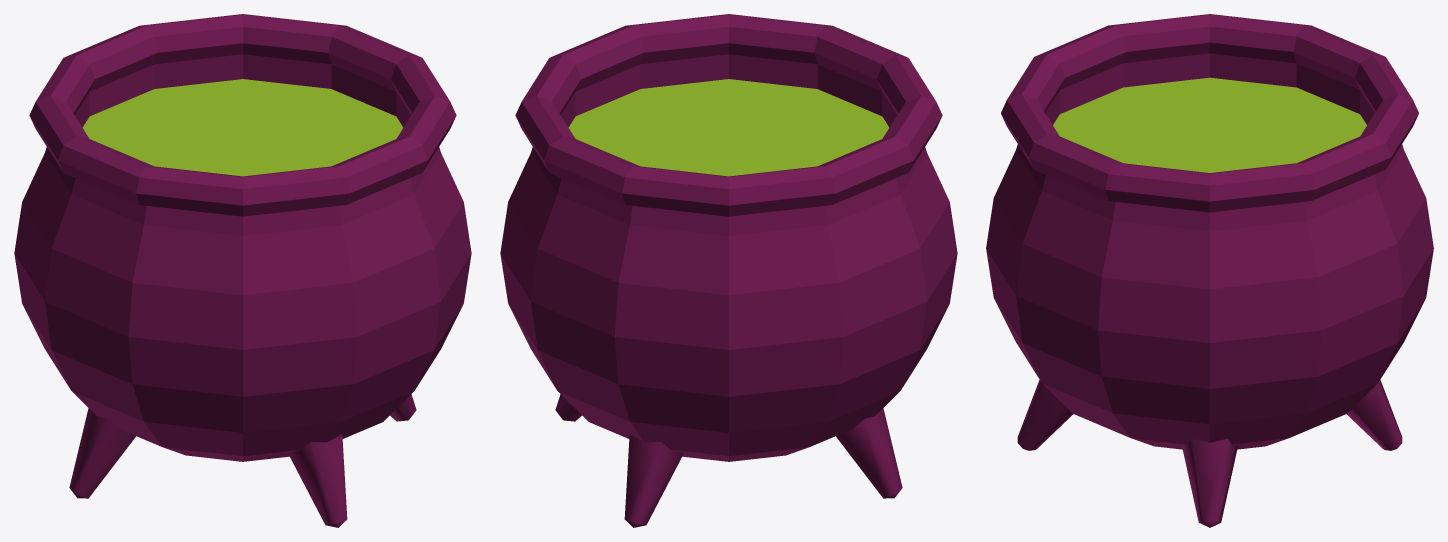
The model's file is Caudron.fbx.
3 views of the same model, side by side, from view 1: azimuth 30°, elevation 25°; view 2: azimuth 150°, elevation 25°; view 3: azimuth 270°, elevation 25° (orthographic). The views are drawn at different scales.
Visible parts, largest first — view 1: Caudron; view 2: Caudron; view 3: Caudron.
Part boxes in pixels (<box>): Caudron: <box>14,14,471,527</box>; Caudron: <box>500,14,957,527</box>; Caudron: <box>986,14,1433,527</box>.
Bounding box in the file's own units: 39.71 × 34.8 × 39.71.
